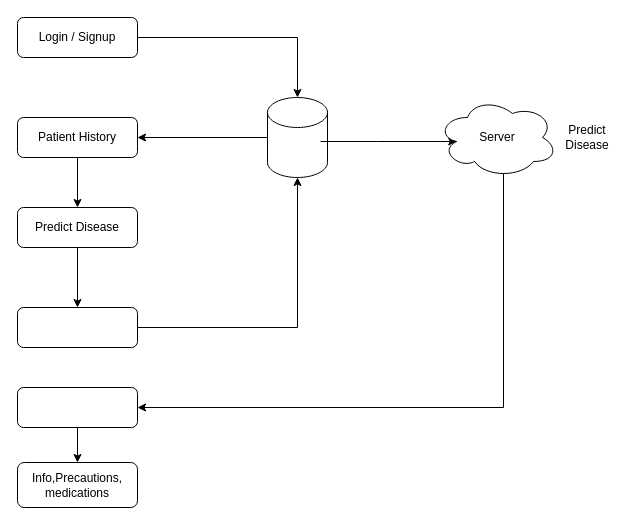
The diagram is 635 pixels wide and 525 high, and some of its shapes have lost their labels. The shapes that lost their labels are listed below. From the top down, each one's box as (x1, y1, x2, y2) in pixels, then its label:
(266, 96, 328, 178): Database
(16, 306, 138, 348): Add Symptoms
(16, 386, 138, 428): Predicted Disease
